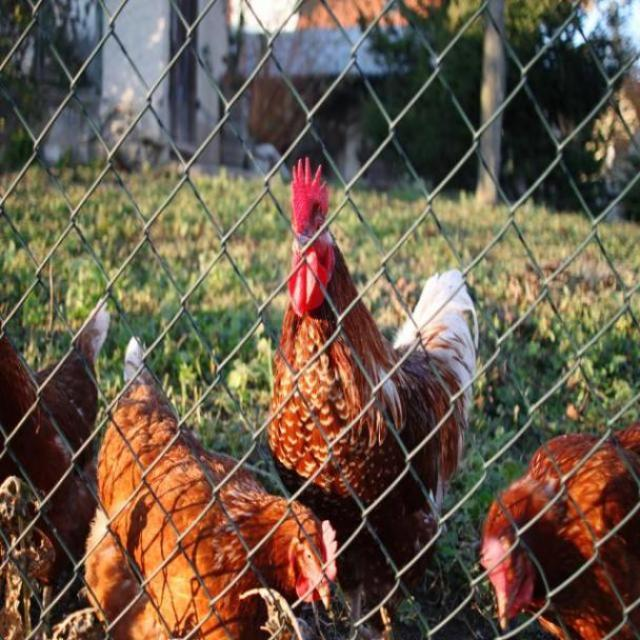Chicken: (267, 160, 481, 639), (77, 340, 338, 640), (480, 418, 640, 639), (0, 293, 114, 599)
